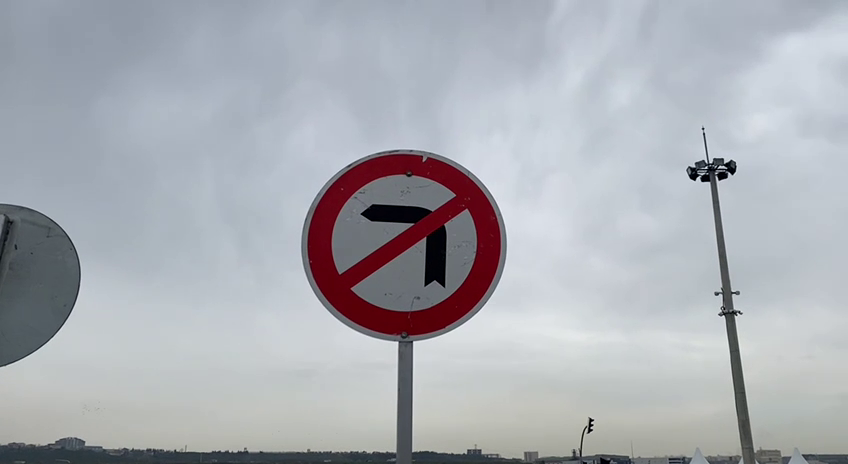noTurnLeft: (297, 144, 511, 345)
